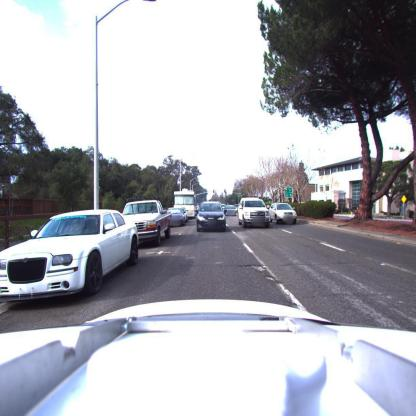car: (0, 209, 144, 309), (122, 200, 173, 246), (238, 198, 270, 229), (196, 201, 226, 231), (270, 203, 298, 225), (167, 207, 187, 228), (223, 204, 237, 215)
truck: (173, 191, 198, 219)
